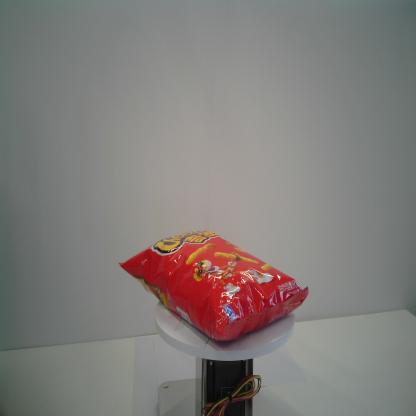Puffed Food: (119, 228, 309, 344)
